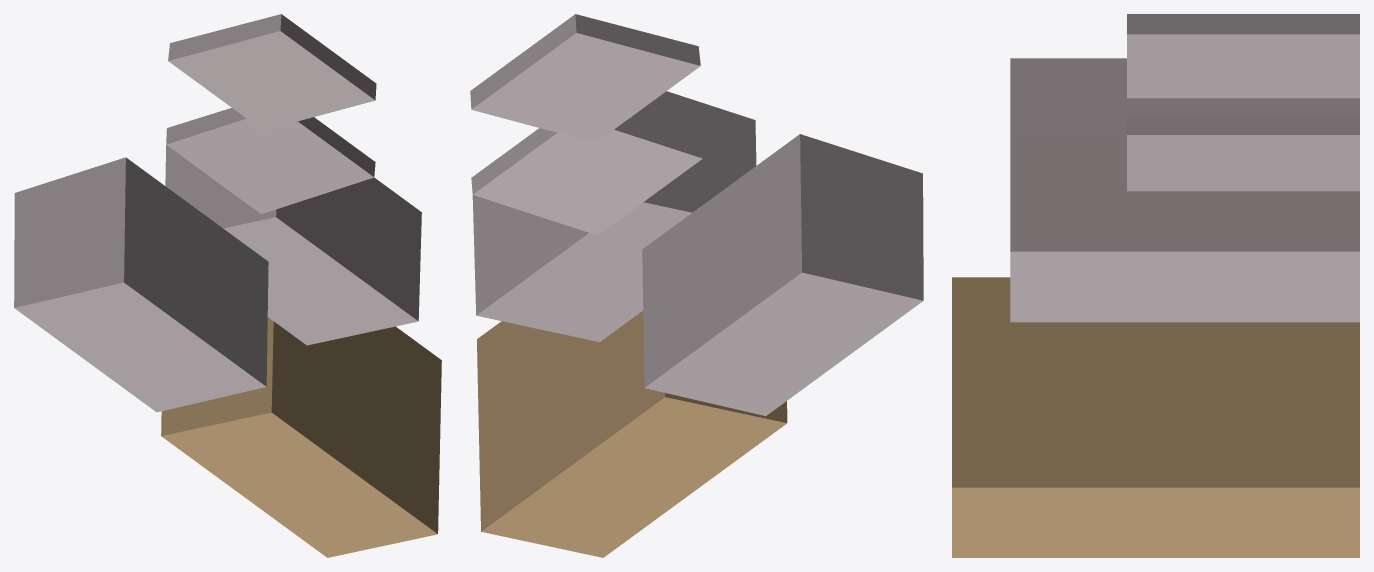
3 views of the same model, side by side, from view 1: azimuth 30°, elevation 25°; view 2: azimuth 150°, elevation 25°; view 3: azimuth 270°, elevation 25° (orthographic). The views are drawn at different scales.
Visible parts, largest first — view 1: 0_2_1_3_0_0_3_2_2_1; view 2: 0_2_1_3_0_0_3_2_2_1; view 3: 0_2_1_3_0_0_3_2_2_1.
Part boxes in pixels (x1,y1,x2,y2): 0_2_1_3_0_0_3_2_2_1: (14, 14, 441, 557); 0_2_1_3_0_0_3_2_2_1: (470, 14, 923, 557); 0_2_1_3_0_0_3_2_2_1: (952, 14, 1359, 557).
Bounding box in the file's own units: 19.48 × 27.58 × 21.
